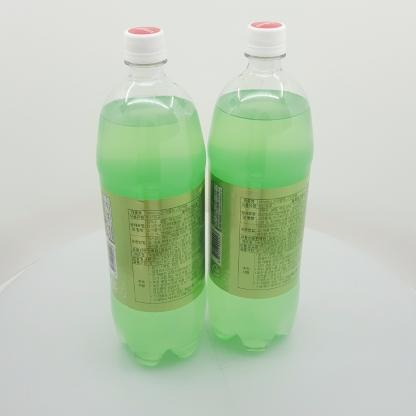----------------: (95, 26, 213, 367), (206, 21, 314, 352)
